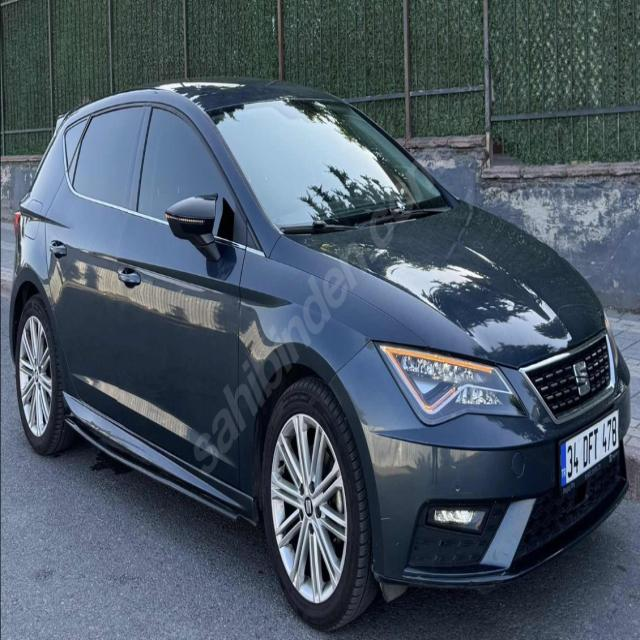seat: (572, 357, 596, 399)
